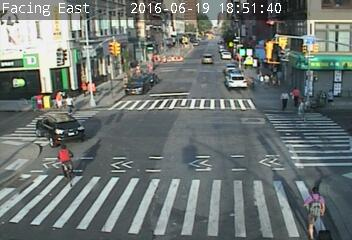neg: (49, 141, 83, 186), (140, 115, 162, 144), (220, 141, 240, 167), (93, 102, 112, 129), (134, 68, 153, 93), (204, 100, 222, 124), (110, 198, 128, 222), (112, 151, 130, 175), (204, 50, 221, 73), (152, 169, 169, 191), (183, 140, 198, 161), (24, 76, 39, 97), (242, 39, 257, 60), (20, 130, 34, 149), (18, 176, 32, 195), (295, 34, 309, 53), (75, 43, 89, 61), (39, 46, 53, 64), (200, 190, 211, 205)
pos: (294, 183, 334, 236), (275, 89, 292, 112), (291, 85, 306, 105), (51, 88, 66, 108), (296, 100, 310, 120), (64, 93, 75, 107)
